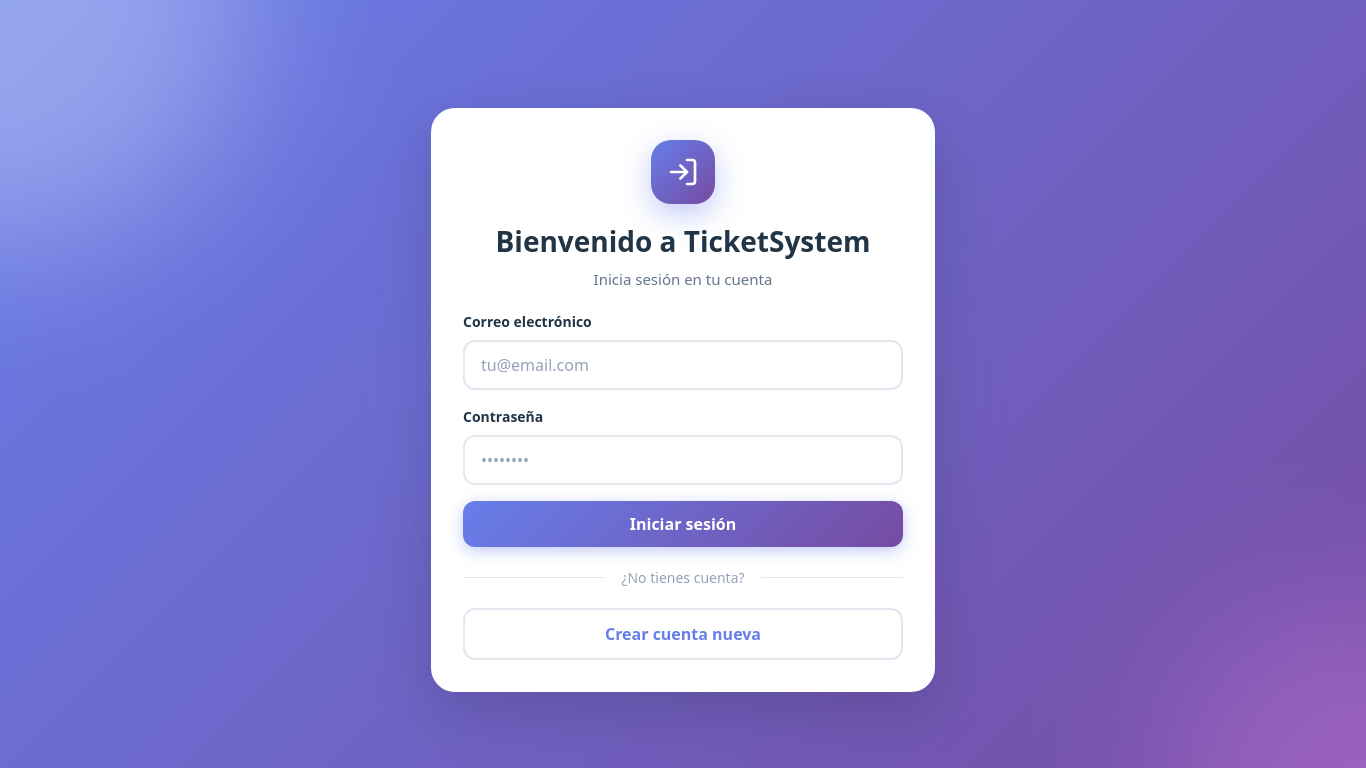
Test: Login Page › displays error message on login failure
Type "test@test.com" into the field labelled "Correo electrónico".
click(683, 365); type("test@test.com")  # box [463,340,903,390]
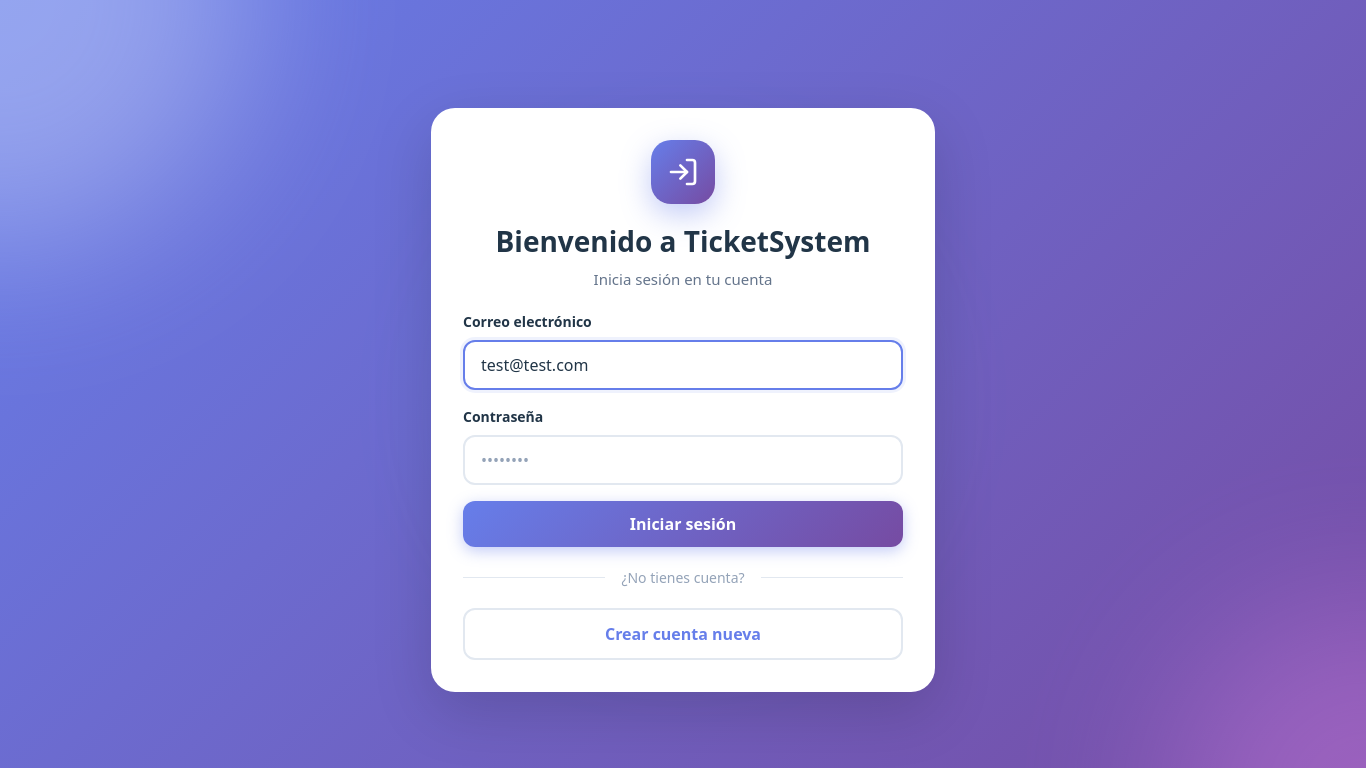
Type "wrong" into the password field labelled "Contraseña".
click(683, 460); type("wrong")  # box [463,435,903,485]
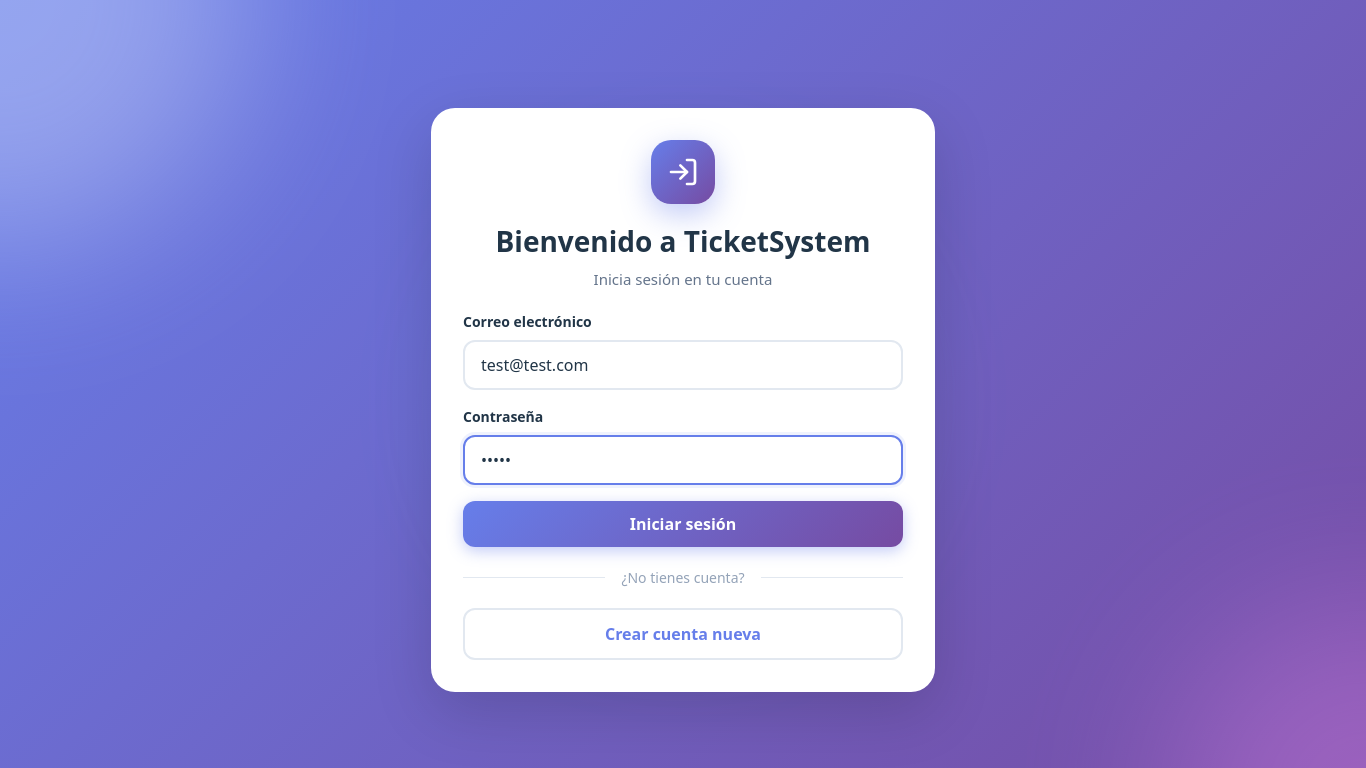
Click the button "Iniciar sesión".
click(683, 524)  # box [463,501,903,547]
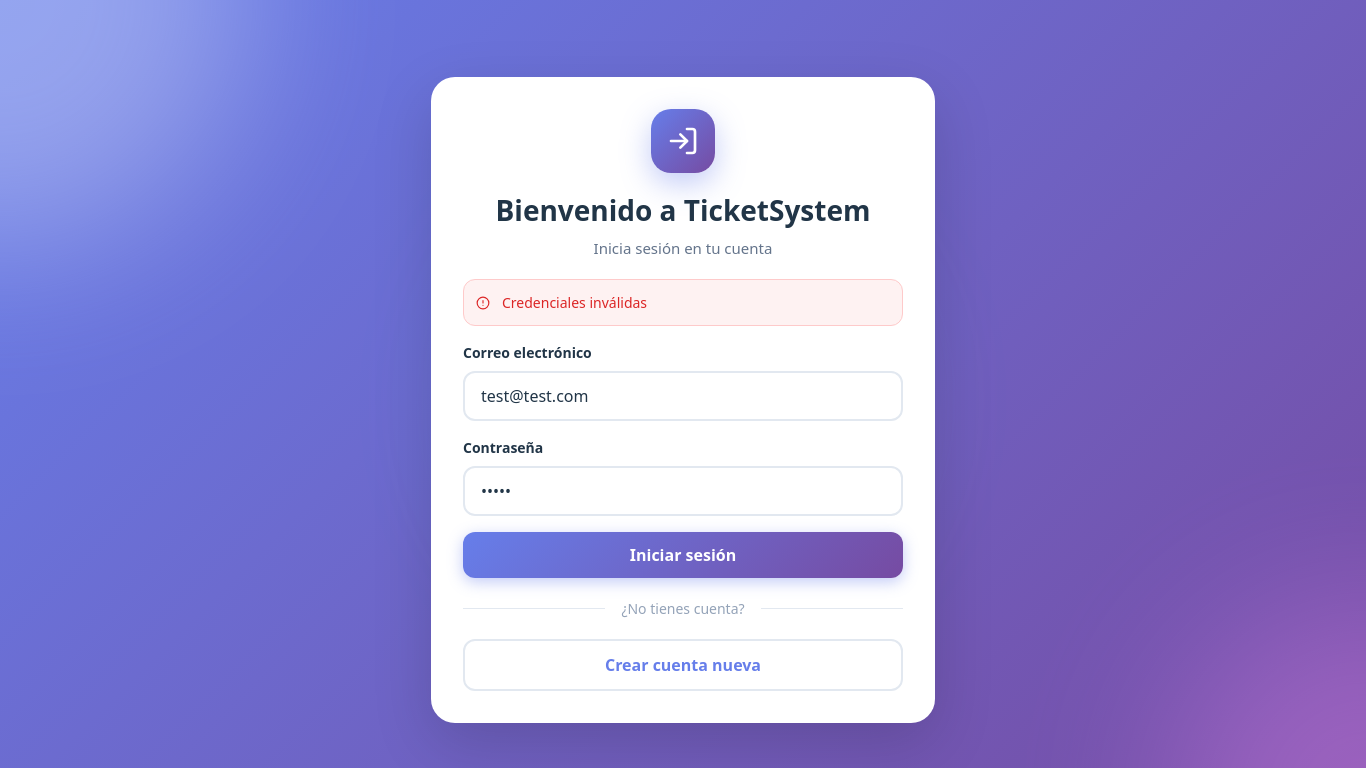
Check: the text "Credenciales inválidas" is shown, box [463,279,903,326]
